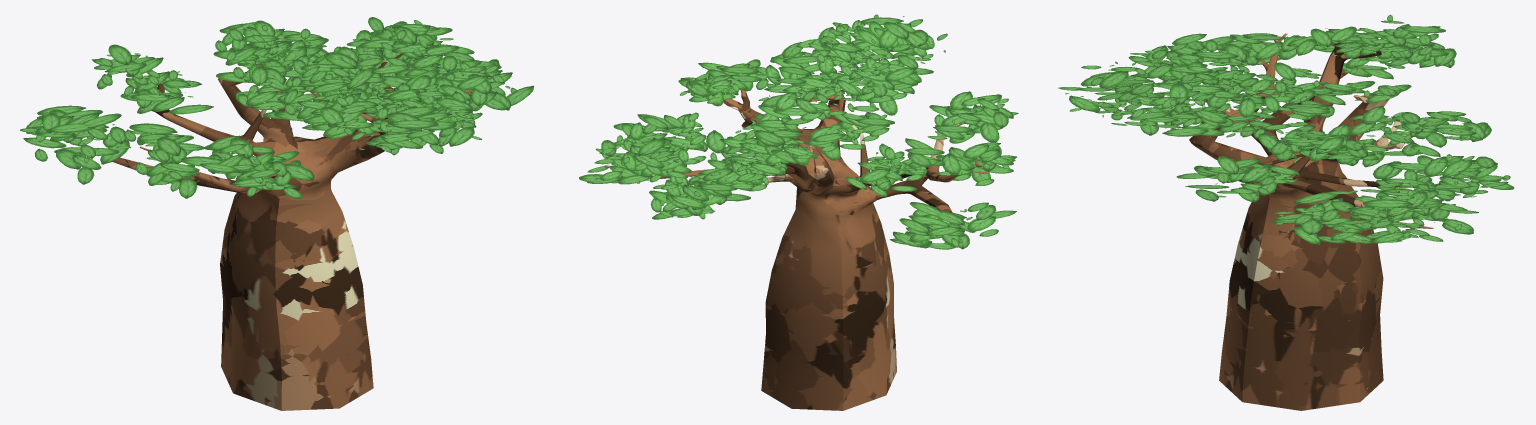
The model's file is PRP_deformedTree2_lowPoly_V01.fbx.
3 renders of one model, left to right at view 1: azimuth 30°, elevation 25°; view 2: azimuth 150°, elevation 25°; view 3: azimuth 270°, elevation 25°, orthographic. The views are drawn at different scales.
Parts seen in each view (by area): view 1: PRP_tree_lowPoly_geo; view 2: PRP_tree_lowPoly_geo; view 3: PRP_tree_lowPoly_geo.
Part boxes in pixels (left/top/right/bottom): PRP_tree_lowPoly_geo: left=20, top=17, right=534, bottom=410; PRP_tree_lowPoly_geo: left=579, top=14, right=1018, bottom=410; PRP_tree_lowPoly_geo: left=1058, top=14, right=1514, bottom=410.
Size of the model in its own units: 2.21 by 1.48 by 2.
